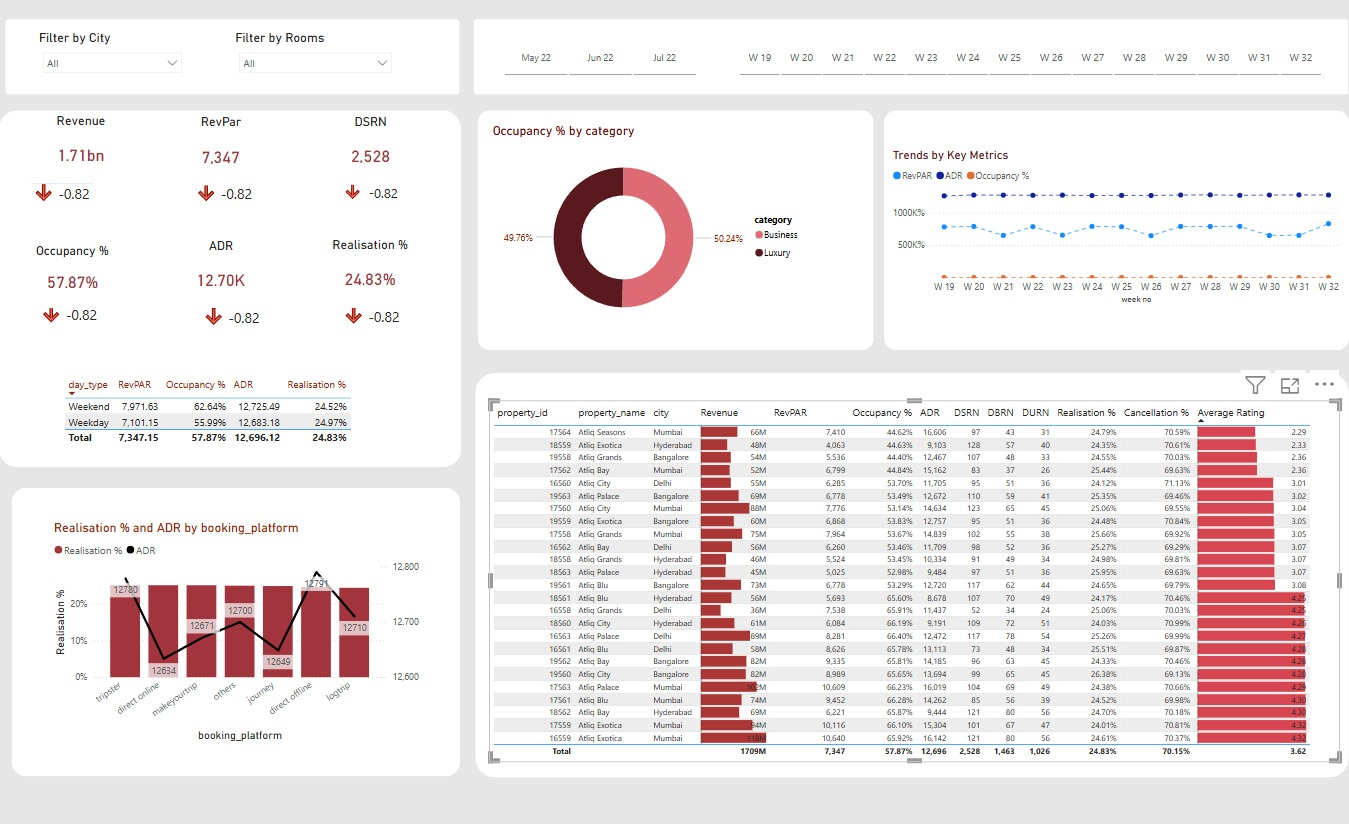

This screenshot's page, from the dashboard's own definition file:
{"tool":"powerbi","page":{"name":"Page 1","canvas":[1800,1100],"ordinal":0},"visuals":[{"type":"shape","box":[635,497.5,1165,540],"z":0},{"type":"shape","box":[0,148,616,476],"z":1000},{"type":"shape","box":[16.7,651.7,598.3,385],"z":2000},{"type":"shape","box":[1180,148,620,320],"z":3000},{"type":"shape","box":[639,148,528,320],"z":4000},{"type":"shape","box":[634,27,1166,101],"z":5000},{"type":"shape","box":[9,27,606,101],"z":6000},{"type":"slicer","title":"Filter by City","fields":{"Values":["dim_hotels.city"]},"box":[48.3,41.7,205,73.3],"z":7000},{"type":"slicer","title":"Filter by Rooms","fields":{"Values":["dim_rooms.room_class"]},"box":[310,41.7,223.3,63.3],"z":8000},{"type":"tableEx","fields":{"Values":["dim_hotels.property_id","dim_hotels.property_name","dim_hotels.city","key_measures.Revenue","key_measures.RevPAR","key_measures.Occupancy %","key_measures.ADR","key_measures.DSRN","key_measures.DBRN","key_measures.DURN","key_measures.Realisation %","key_measures.Cancellation %"]},"box":[652.5,535,1135,482.5],"z":9000},{"type":"donutChart","fields":{"Category":["dim_hotels.category"],"Y":["key_measures.Occupancy %"]},"box":[653,165,427,287],"z":10000},{"type":"lineChart","title":"Trends by Key Metrics","fields":{"Category":["dim_date.mmm yy.Variation.Date Hierarchy.Month","dim_date.week no"],"Y":["key_measures.RevPAR","key_measures.ADR","key_measures.Occupancy %"]},"box":[1187,199,607,213],"z":11000},{"type":"lineStackedColumnComboChart","fields":{"Category":["fact_bookings.booking_platform"],"Y":["key_measures.Realisation %"],"Y2":["key_measures.ADR"]},"box":[68.3,695,496.7,300],"z":12000},{"type":"slicer","fields":{"Values":["dim_date.mmm yy"]},"box":[648,48,305,60],"z":13000},{"type":"slicer","fields":{"Values":["dim_date.week no"]},"box":[962,48,825,60],"z":14000},{"type":"tableEx","fields":{"Values":["key_measures.Revenue WoW change %"]},"box":[36,212,125,76],"z":15000},{"type":"card","title":"Revenue","fields":{"Values":["key_measures.Revenue"]},"box":[34,152,152,94],"z":16000},{"type":"tableEx","fields":{"Values":["dim_date.day_type","key_measures.RevPAR","key_measures.Occupancy %","key_measures.ADR","key_measures.Realisation %"]},"box":[81.7,498.3,428.3,103.3],"z":17000},{"type":"tableEx","fields":{"Values":["key_measures.Revenue WoW change %"]},"box":[254,212,117,80],"z":18000},{"type":"tableEx","fields":{"Values":["key_measures.Revenue WoW change %"]},"box":[450,212,130,89],"z":19000},{"type":"card","title":"DSRN","fields":{"Values":["key_measures.DSRN"]},"box":[440,154,111,94],"z":20000},{"type":"card","title":"RevPar","fields":{"Values":["key_measures.RevPAR"]},"box":[229,153,135,95],"z":21000},{"type":"tableEx","fields":{"Values":["key_measures.Revenue WoW change %"]},"box":[46,374,127,77],"z":22000},{"type":"card","title":"Occupancy %","fields":{"Values":["key_measures.Occupancy %"]},"box":[18,325,159,87],"z":23000},{"type":"tableEx","fields":{"Values":["key_measures.Revenue WoW change %"]},"box":[264,377,107,85],"z":24000},{"type":"card","title":"ADR","fields":{"Values":["key_measures.ADR"]},"box":[238,319,115,93],"z":25000},{"type":"tableEx","fields":{"Values":["key_measures.Revenue WoW change %"]},"box":[450,375,101,87],"z":26000},{"type":"card","title":"Realisation %","fields":{"Values":["key_measures.Realisation %"]},"box":[434,317,123,95],"z":27000}]}

Visuals, with their boxes in screenshot pixels (x1, y1, x2, y2), scaled from the page's 1800x1100 canvas onto the 1349x824 screenshot:
shape: {"x1": 476, "y1": 373, "x2": 1348, "y2": 777}
shape: {"x1": 0, "y1": 111, "x2": 462, "y2": 467}
shape: {"x1": 13, "y1": 488, "x2": 461, "y2": 777}
shape: {"x1": 884, "y1": 111, "x2": 1348, "y2": 351}
shape: {"x1": 479, "y1": 111, "x2": 875, "y2": 351}
shape: {"x1": 475, "y1": 20, "x2": 1348, "y2": 96}
shape: {"x1": 7, "y1": 20, "x2": 461, "y2": 96}
"Filter by City" slicer: {"x1": 36, "y1": 31, "x2": 190, "y2": 86}
"Filter by Rooms" slicer: {"x1": 232, "y1": 31, "x2": 400, "y2": 79}
tableEx - dim_hotels.property_id x dim_hotels.property_name: {"x1": 489, "y1": 401, "x2": 1340, "y2": 762}
donutChart - dim_hotels.category x key_measures.Occupancy %: {"x1": 489, "y1": 124, "x2": 809, "y2": 339}
"Trends by Key Metrics" lineChart: {"x1": 890, "y1": 149, "x2": 1345, "y2": 309}
lineStackedColumnComboChart - fact_bookings.booking_platform x key_measures.Realisation %: {"x1": 51, "y1": 521, "x2": 423, "y2": 745}
slicer - dim_date.mmm yy: {"x1": 486, "y1": 36, "x2": 714, "y2": 81}
slicer - dim_date.week no: {"x1": 721, "y1": 36, "x2": 1339, "y2": 81}
tableEx - key_measures.Revenue WoW change %: {"x1": 27, "y1": 159, "x2": 121, "y2": 216}
"Revenue" card: {"x1": 25, "y1": 114, "x2": 139, "y2": 184}
tableEx - dim_date.day_type x key_measures.RevPAR: {"x1": 61, "y1": 373, "x2": 382, "y2": 451}
tableEx - key_measures.Revenue WoW change %: {"x1": 190, "y1": 159, "x2": 278, "y2": 219}
tableEx - key_measures.Revenue WoW change %: {"x1": 337, "y1": 159, "x2": 435, "y2": 225}
"DSRN" card: {"x1": 330, "y1": 115, "x2": 413, "y2": 186}
"RevPar" card: {"x1": 172, "y1": 115, "x2": 273, "y2": 186}
tableEx - key_measures.Revenue WoW change %: {"x1": 34, "y1": 280, "x2": 130, "y2": 338}
"Occupancy %" card: {"x1": 13, "y1": 243, "x2": 133, "y2": 309}
tableEx - key_measures.Revenue WoW change %: {"x1": 198, "y1": 282, "x2": 278, "y2": 346}
"ADR" card: {"x1": 178, "y1": 239, "x2": 265, "y2": 309}
tableEx - key_measures.Revenue WoW change %: {"x1": 337, "y1": 281, "x2": 413, "y2": 346}
"Realisation %" card: {"x1": 325, "y1": 237, "x2": 417, "y2": 309}
